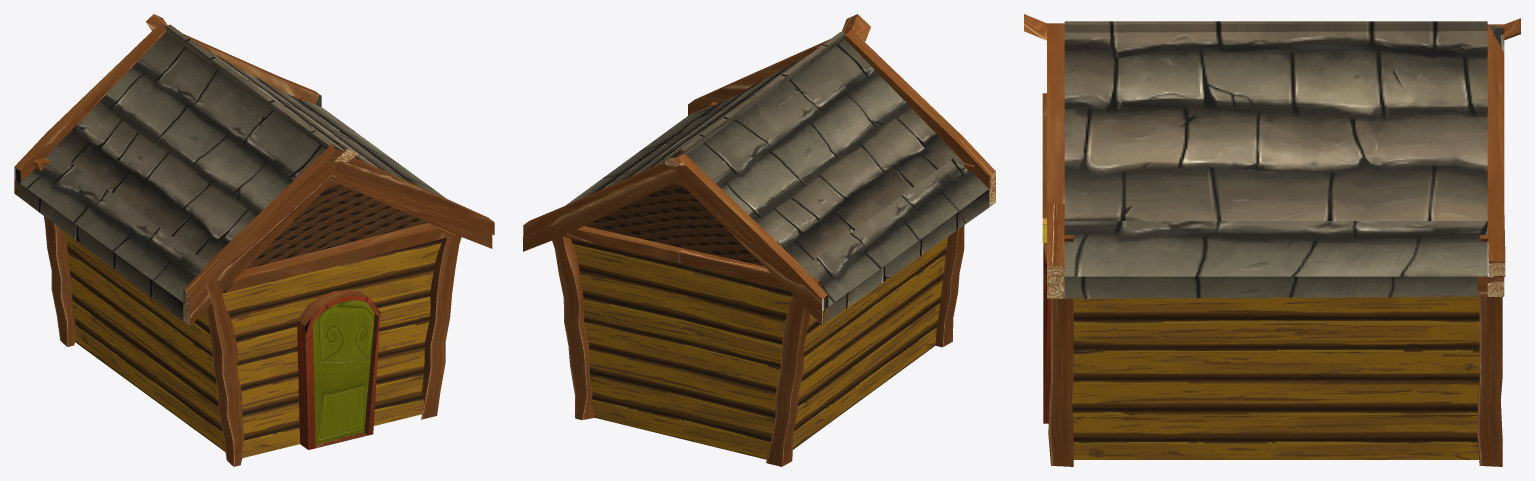
File: house6.FBX
3 renders of one model, left to right at view 1: azimuth 30°, elevation 25°; view 2: azimuth 150°, elevation 25°; view 3: azimuth 270°, elevation 25°, orthographic. The views are drawn at different scales.
Parts seen in each view (by area): view 1: Box001; view 2: Box001; view 3: Box001.
Part boxes in pixels (x1,y1,x2,y2): Box001: [14, 14, 494, 466]; Box001: [523, 14, 995, 466]; Box001: [1024, 14, 1520, 466].
Size of the model in its own units: 60.06 by 56.38 by 65.32.
